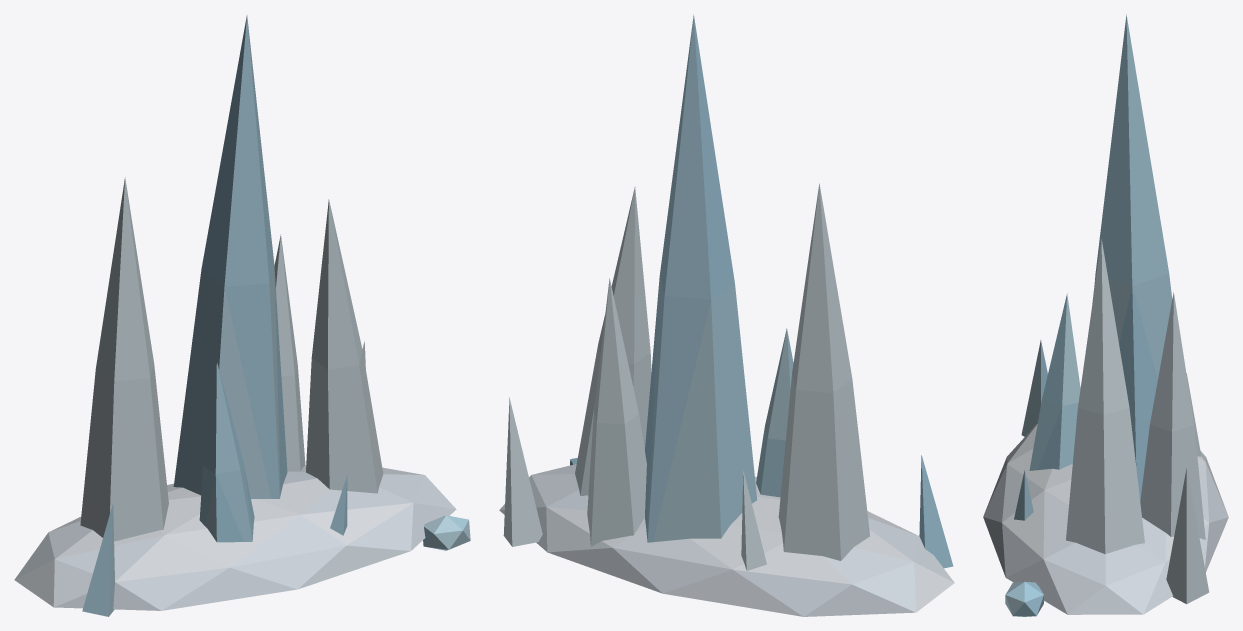
Rendered from kit-arctic-decor-1.glb.
3 renders of one model, left to right at view 1: azimuth 30°, elevation 25°; view 2: azimuth 150°, elevation 25°; view 3: azimuth 270°, elevation 25°, orthographic. The views are drawn at different scales.
Visible parts, largest first — view 1: kit-arctic-decor-1; view 2: kit-arctic-decor-1; view 3: kit-arctic-decor-1.
Part boxes in pixels (x1,y1,x2,y2): kit-arctic-decor-1: (14,15,470,616); kit-arctic-decor-1: (499,14,954,616); kit-arctic-decor-1: (983,14,1228,616).
Bounding box in the file's own units: 1.43 × 1.81 × 0.7587.
